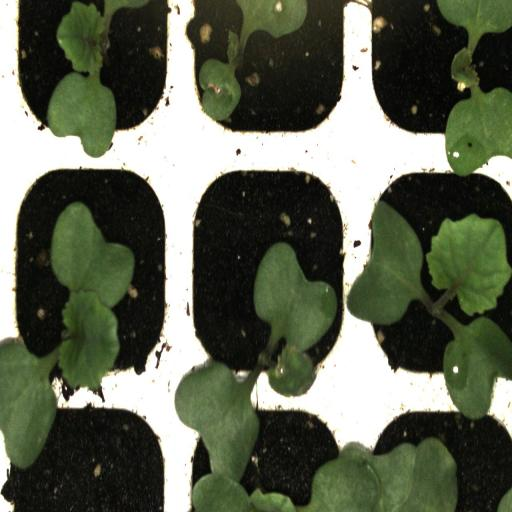seedling: (175, 155, 354, 404), (5, 152, 176, 400), (355, 152, 512, 407), (355, 0, 512, 148)
weak: (174, 0, 355, 148)
